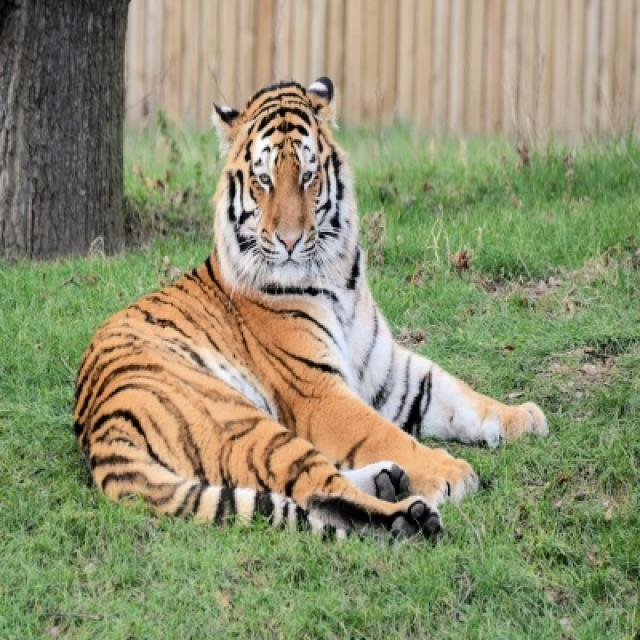Tiger: (77, 70, 559, 545)
